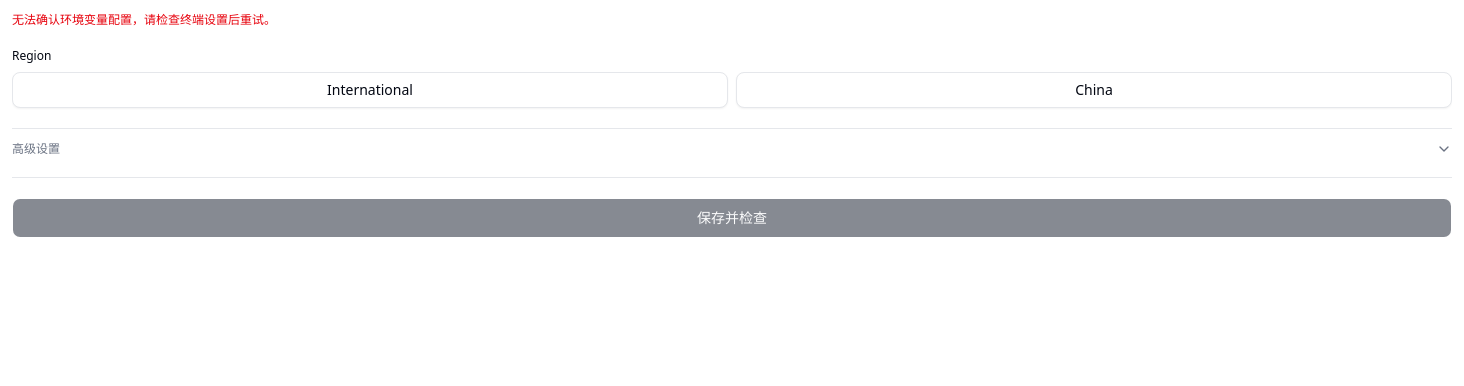
Test: Provider Config Environment Sources › keeps the International key source unknown when its region was not confirmed
Check: the message "无法确认环境变量配置，请检查终端设置后重试。" is shown, box [12,12,276,28]
Click the radio button labelled "International": (370, 90) [12,72,728,108]
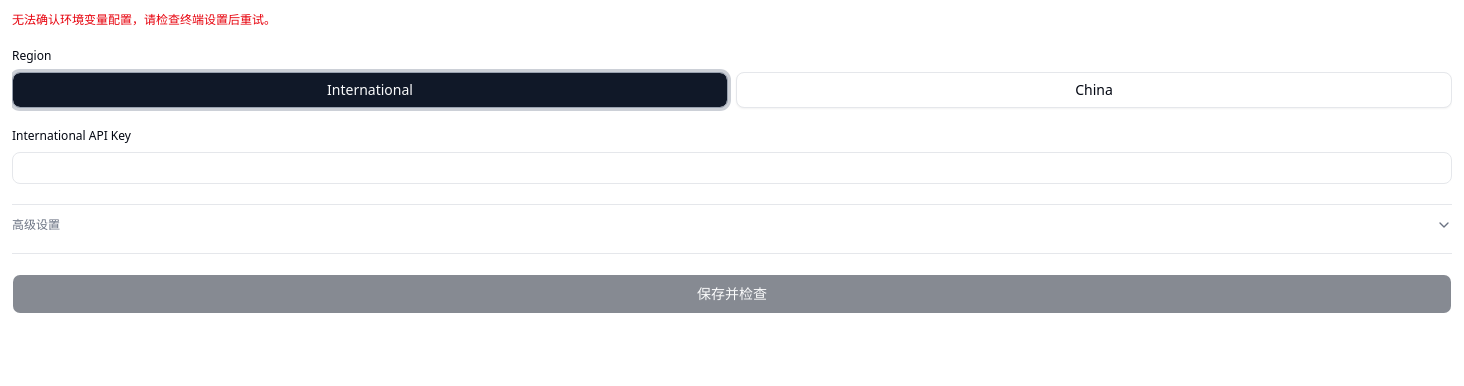
Check: the button "保存并检查" is disabled, box [12,274,1452,314]
Check: the password field labelled "International API Key" is empty, box [12,152,1452,184]
Click the button "高级设置": (36, 224) [12,217,1452,233]
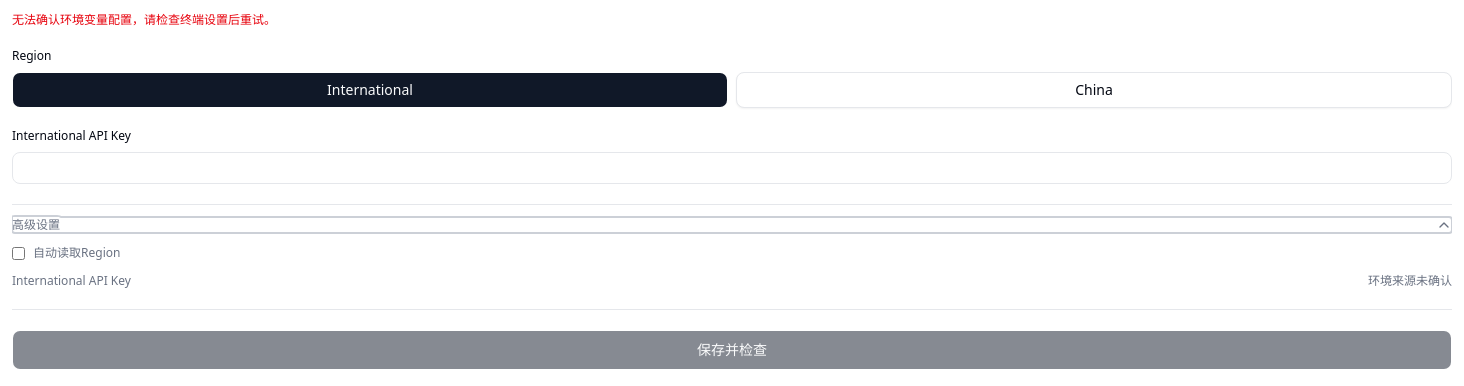
Check: the text "环境来源未确认" is shown, box [1368,273,1452,289]
